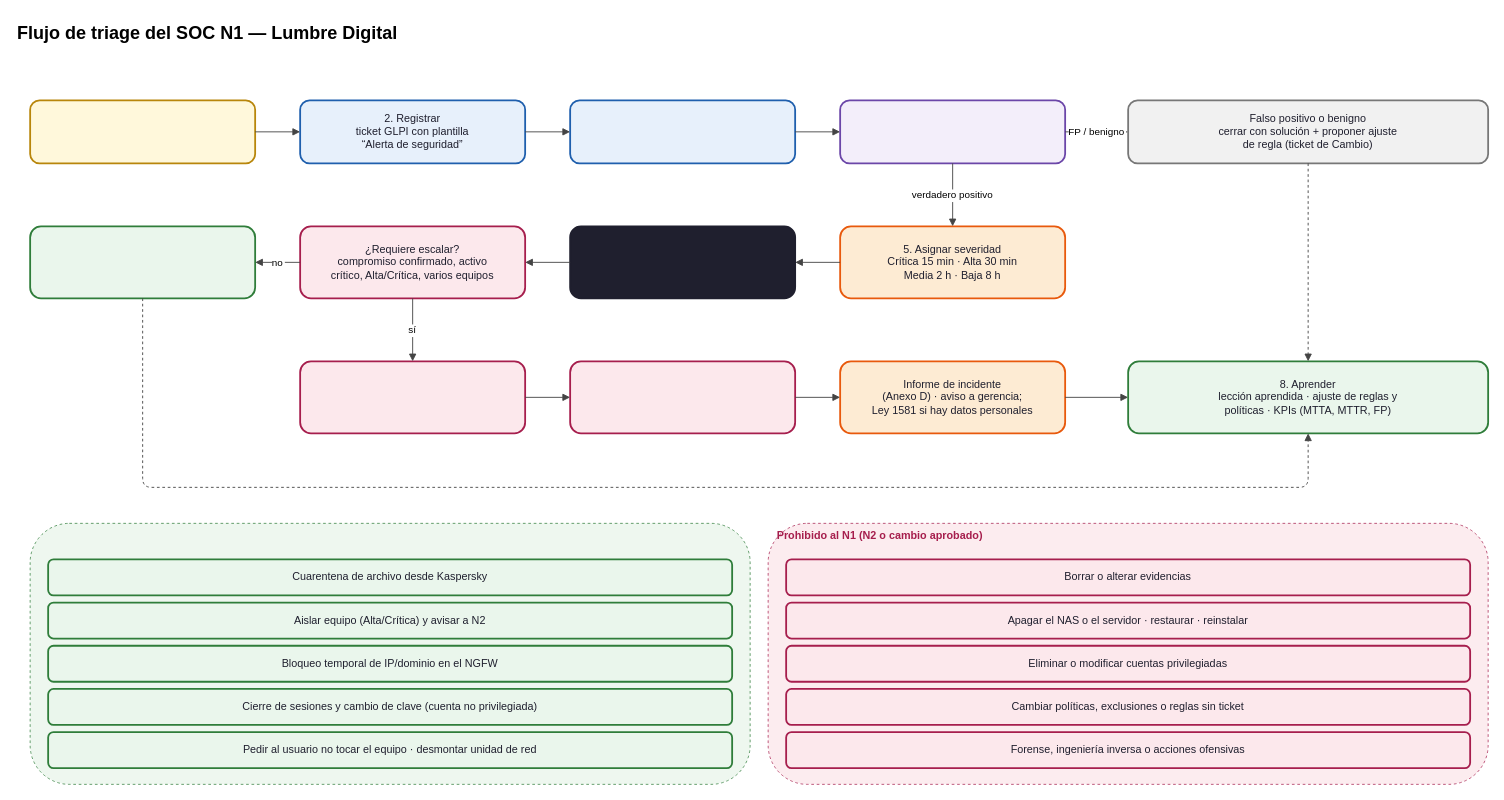
Some shapes in this 1504 by 800 pixel diagram are drawn without their labels. Here are the shapes that lost their labels. From the top down, the box of each, then its label:
(29, 99, 256, 164): 1. Recibir Wazuh ≥10 (correo/tablero) · Kaspersky · NGFW · buzón phishing
(569, 99, 796, 164): 3. Enriquecer inventario GLPI · historial Wazuh · reputación IP/URL/hash
(839, 99, 1066, 164): 4. Clasificar falso positivo / benigno / verdadero positivo
(29, 225, 256, 299): 7a. Cerrar solución documentada en GLPI
(569, 225, 796, 299): 6. Ejecutar playbook PB-01 … PB-09 (solo acciones permitidas al N1)
(299, 360, 526, 434): 7b. Escalar a N2 plantilla · grupo SOC N2 · llamada si Alta/Crítica
(569, 360, 796, 434): N2 investiga y decide contención mayor, restauración, notificación
(29, 522, 750, 784): Permitido al N1 (si el playbook lo indica)
